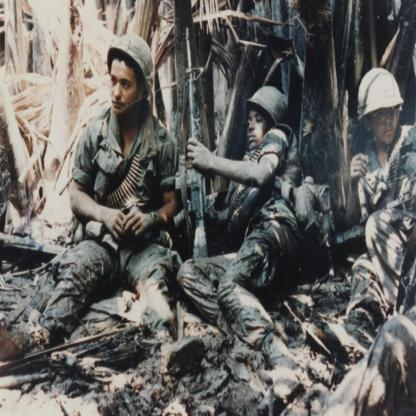face: (112, 59, 141, 117), (373, 104, 399, 147), (247, 107, 269, 151)
